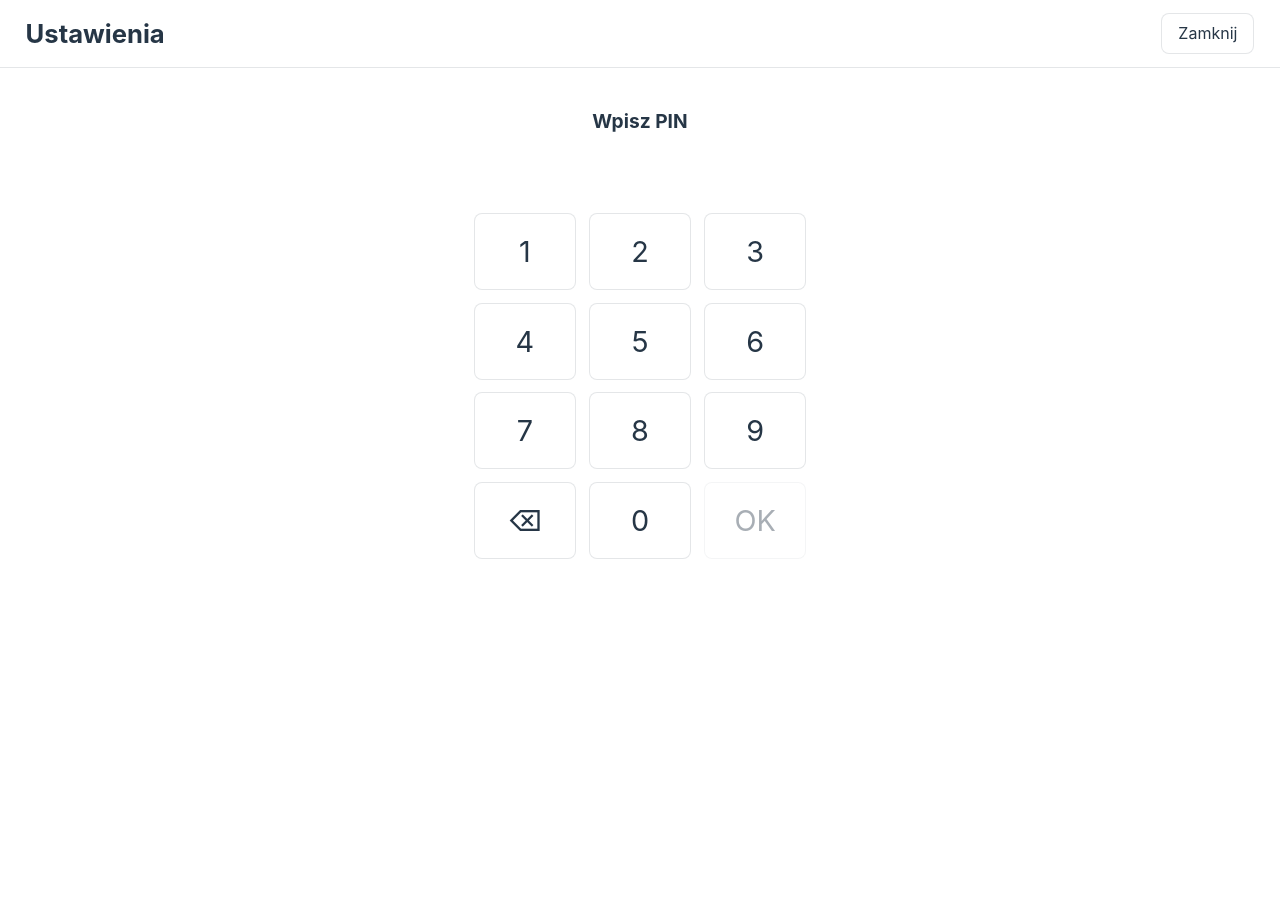
Test: SettingsDialog › asks for the PIN first and keeps the settings hidden after a wrong one
Expected: the heading "Wpisz PIN" is shown, [592,109,688,133]
What coordinates should you click on to do the following:
click the button "0"
I would click on:
 (640, 520)
Its box is [589,482,691,559].
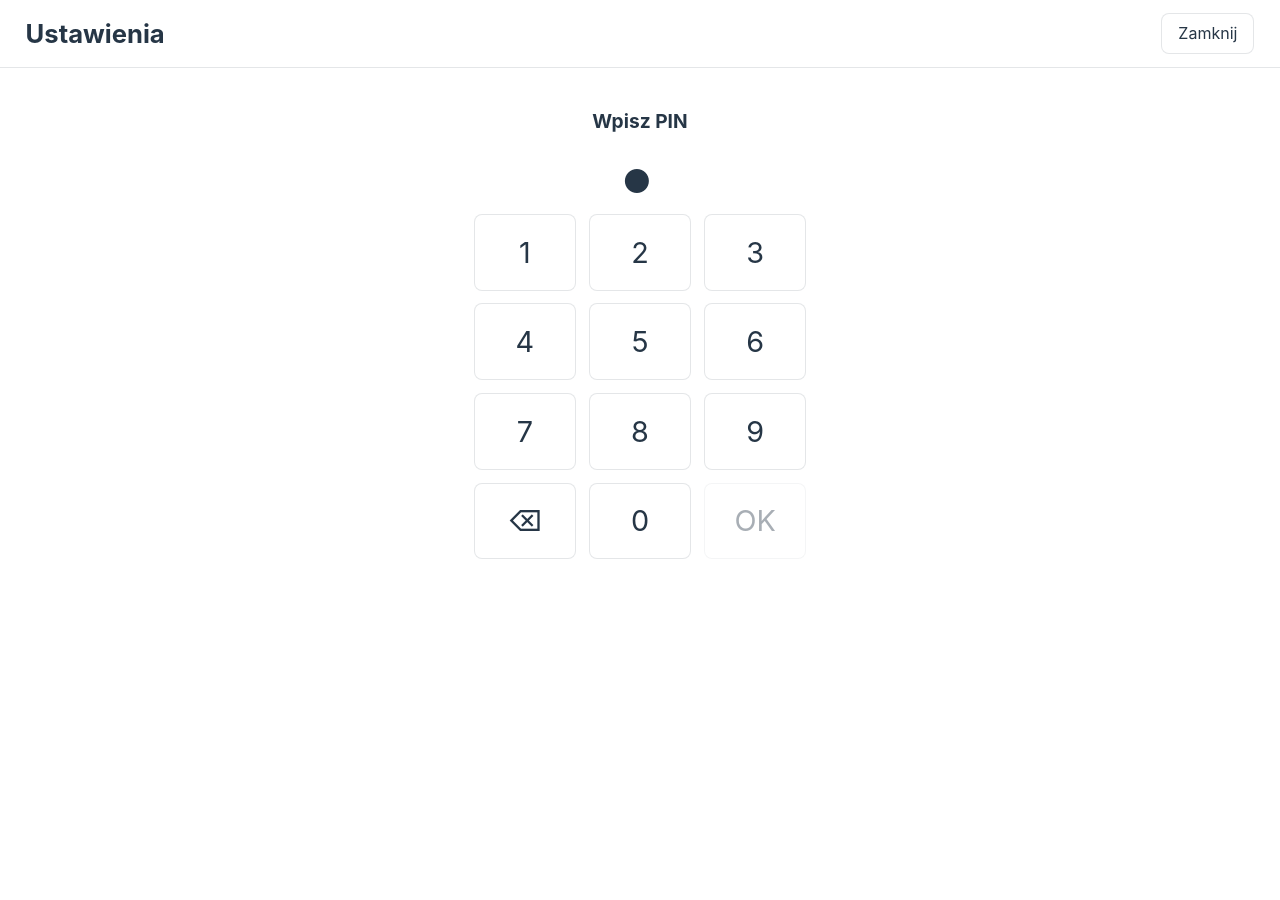
What coordinates should you click on to do the following:
click the button "0"
I would click on:
 (640, 521)
Its box is [589,483,691,559].
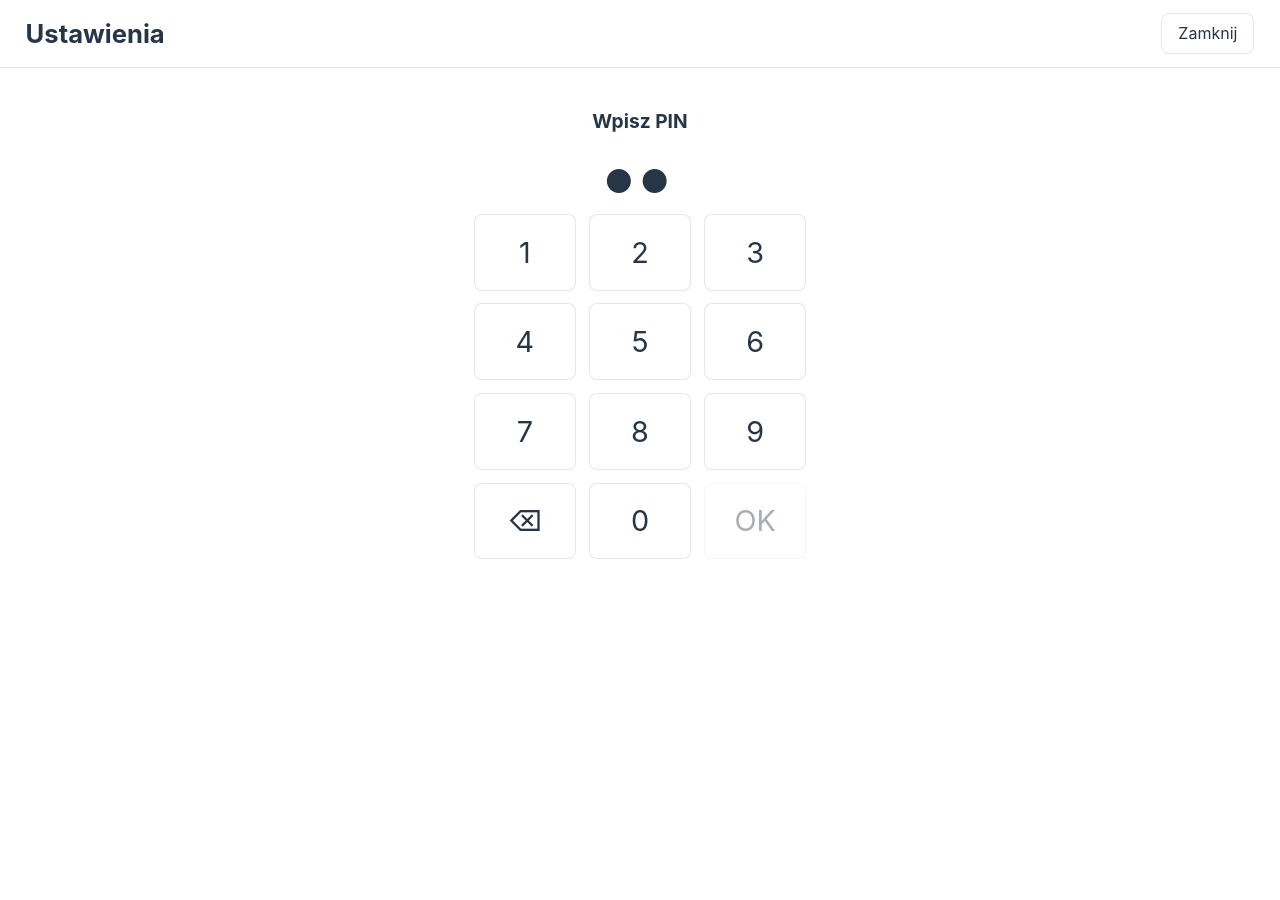
What coordinates should you click on to do the following:
click the button "0"
I would click on:
 (640, 521)
Its box is [589,483,691,559].
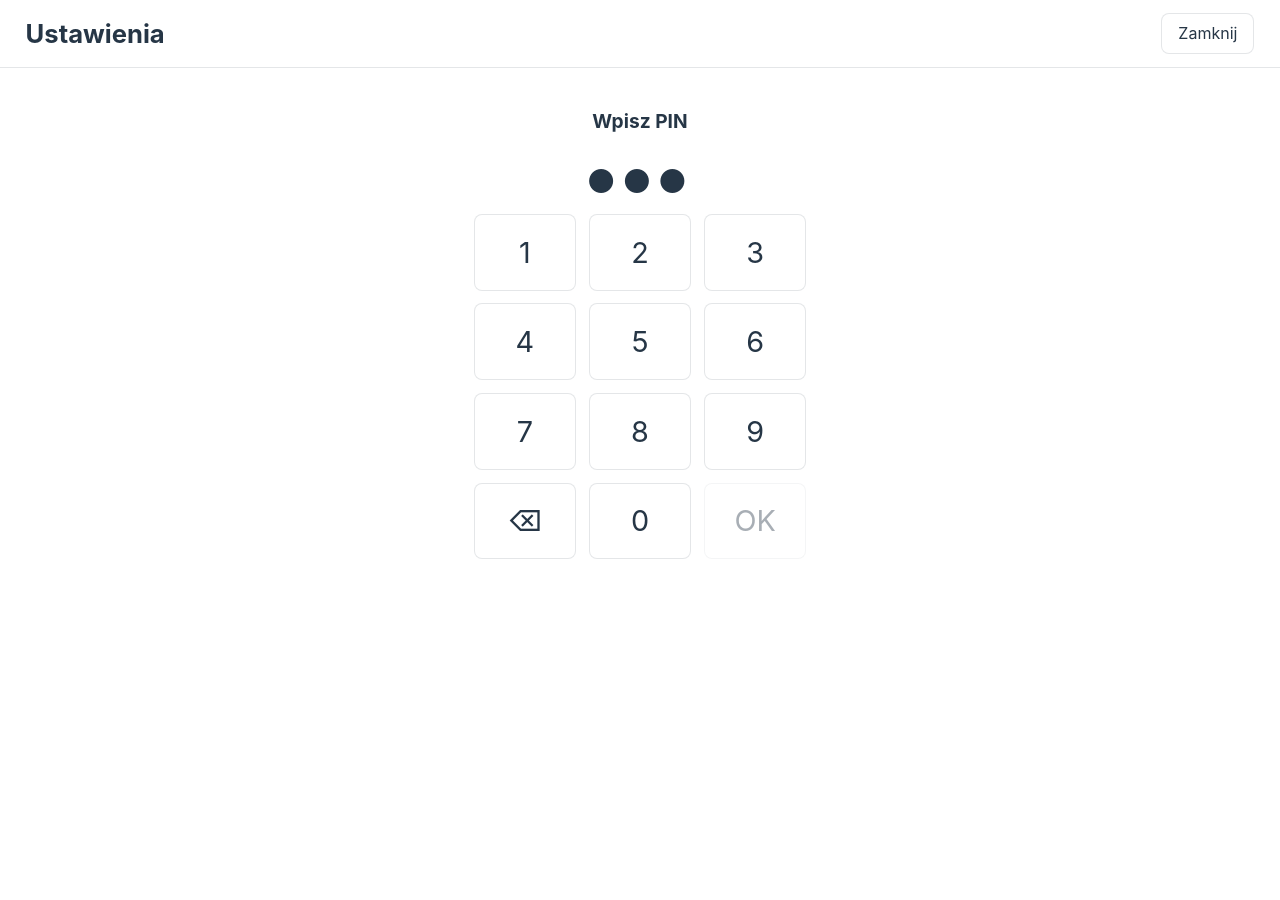
What coordinates should you click on to do the following:
click the button "0"
I would click on:
 (640, 521)
Its box is [589,483,691,559].
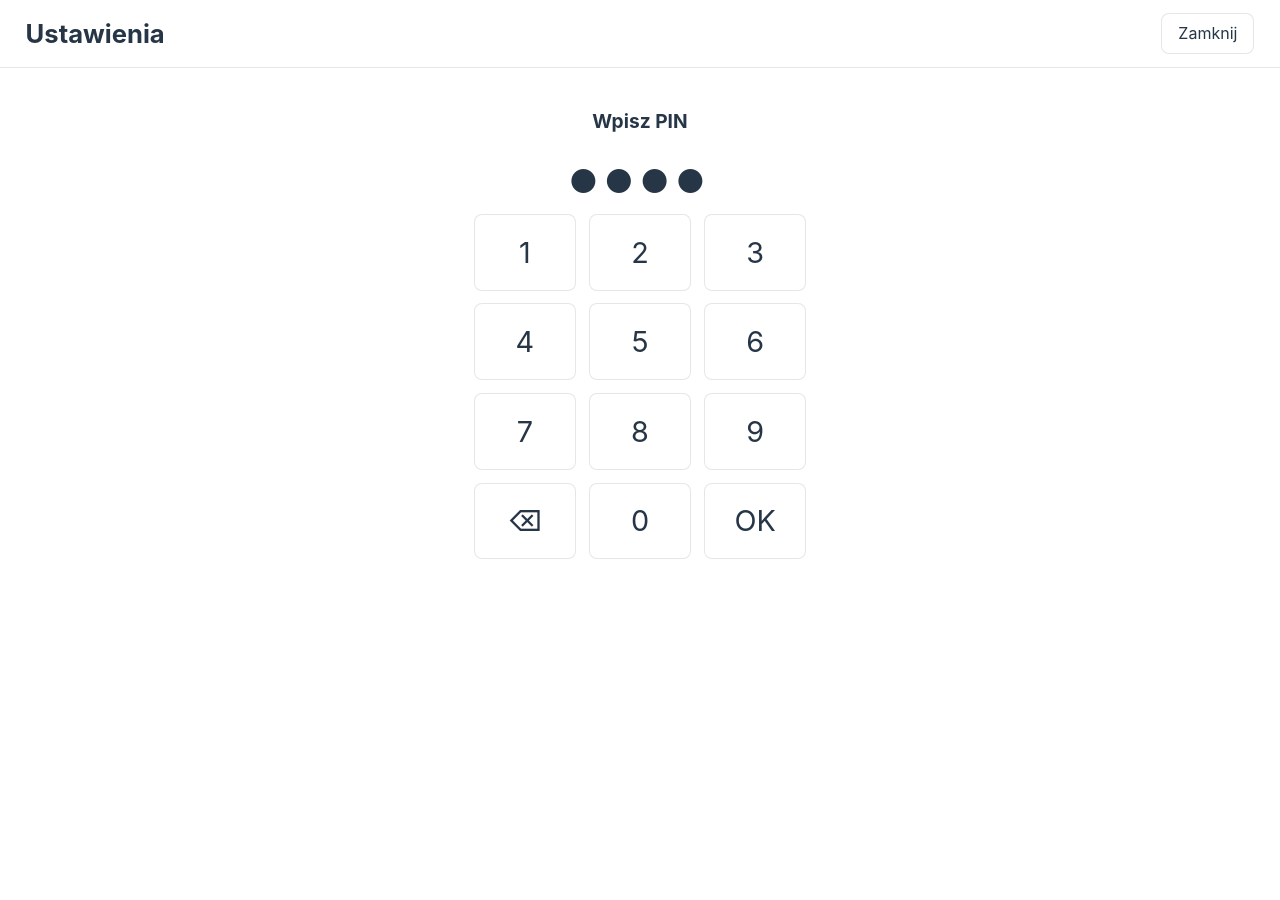
What coordinates should you click on to do the following:
click the button "OK"
I would click on:
 (755, 521)
Its box is [704,483,806,559].
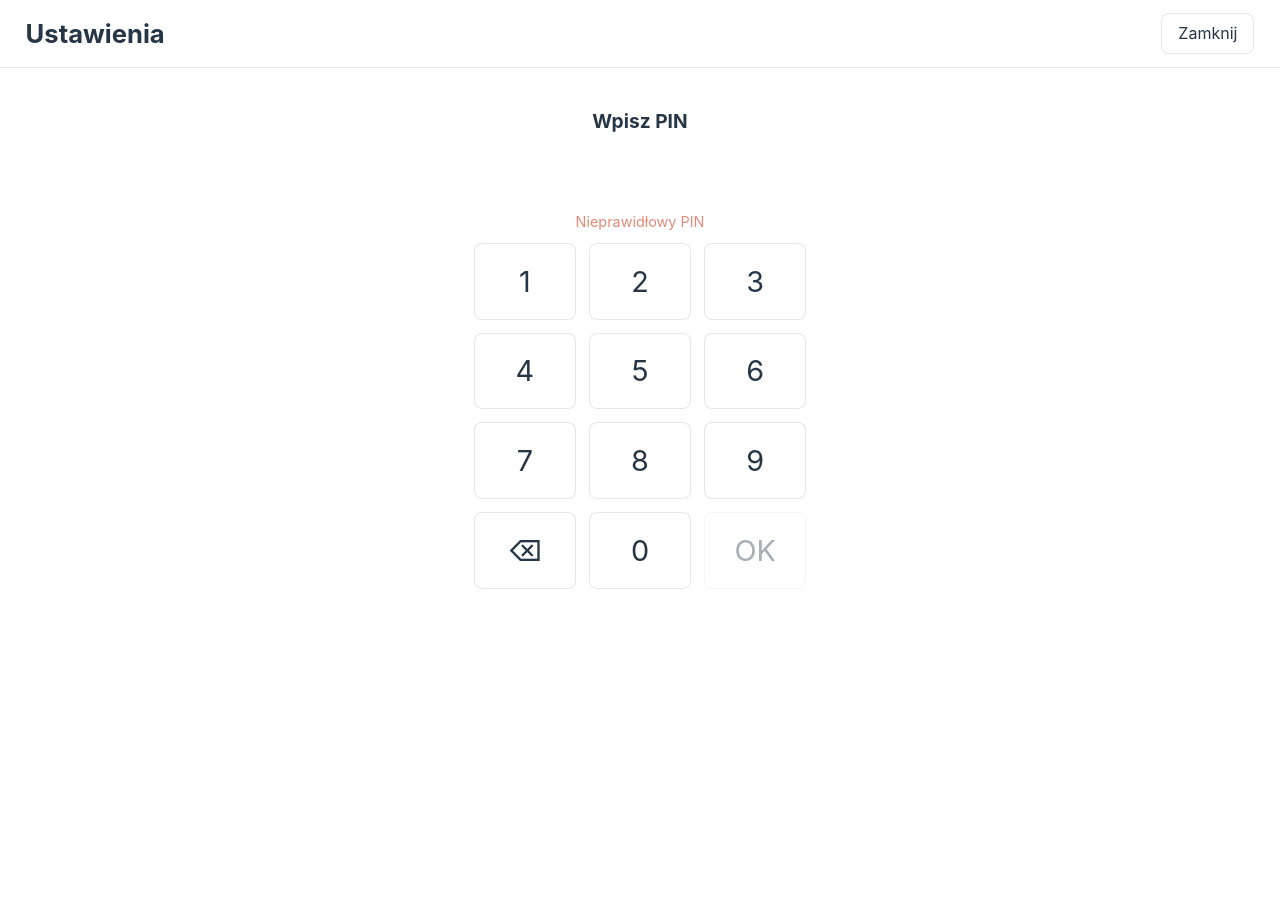
Now the message reads "Nieprawidłowy PIN", box [576,213,704,230]
